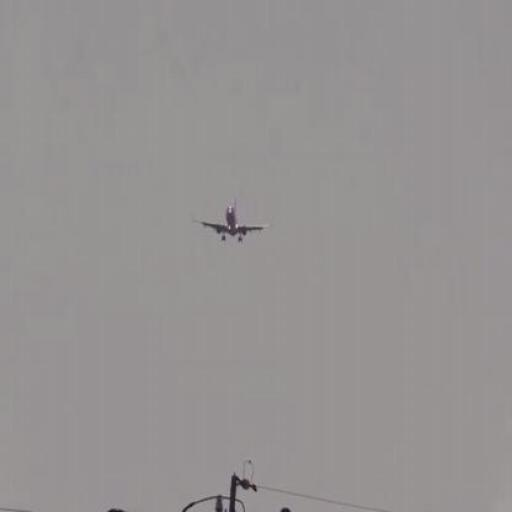aircraft: (193, 202, 272, 241)
